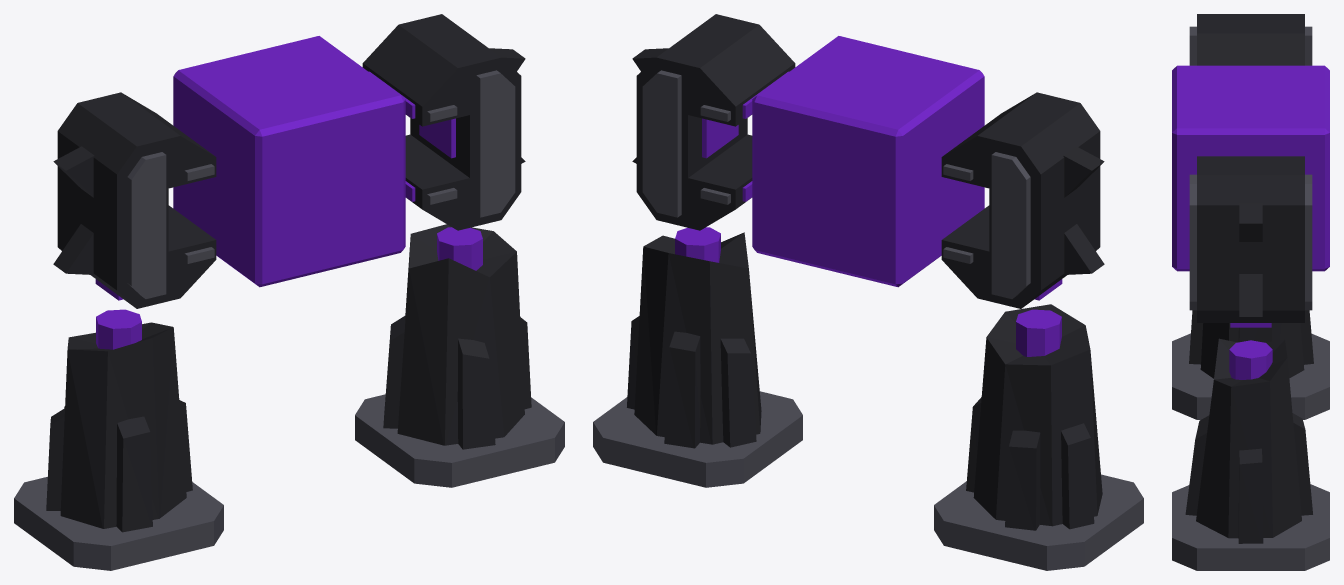
The model's file is TrainingCosmic.fbx.
The picture shows the model from 3 angles, left to right: view 1: azimuth 30°, elevation 25°; view 2: azimuth 150°, elevation 25°; view 3: azimuth 270°, elevation 25°; orthographic projection. The views are drawn at different scales.
Parts seen in each view (by area): view 1: CosmicStand_Pillars, CosmicCube, CosmicStand_Clamps, CosmicStand_Trim, CosmicStand_Glow; view 2: CosmicStand_Pillars, CosmicCube, CosmicStand_Clamps, CosmicStand_Trim, CosmicStand_Glow; view 3: CosmicStand_Clamps, CosmicStand_Pillars, CosmicCube, CosmicStand_Trim, CosmicStand_Glow.
Boxes of the visible parts, box(x1,y1,x2,y2) form: CosmicStand_Pillars: box(46, 224, 531, 532); CosmicCube: box(173, 36, 405, 287); CosmicStand_Clamps: box(53, 14, 525, 308); CosmicStand_Trim: box(14, 70, 564, 570); CosmicStand_Glow: box(95, 71, 482, 349); CosmicStand_Pillars: box(627, 232, 1102, 530); CosmicCube: box(752, 36, 984, 287); CosmicStand_Clamps: box(632, 14, 1104, 308); CosmicStand_Trim: box(593, 70, 1143, 570); CosmicStand_Glow: box(675, 71, 1062, 356); CosmicStand_Clamps: box(1197, 14, 1304, 322); CosmicStand_Pillars: box(1185, 310, 1313, 543); CosmicCube: box(1172, 65, 1329, 271); CosmicStand_Trim: box(1172, 26, 1329, 570); CosmicStand_Glow: box(1229, 323, 1272, 379).
Bounding box in the file's own units: 6.2 × 4.88 × 1.9.
